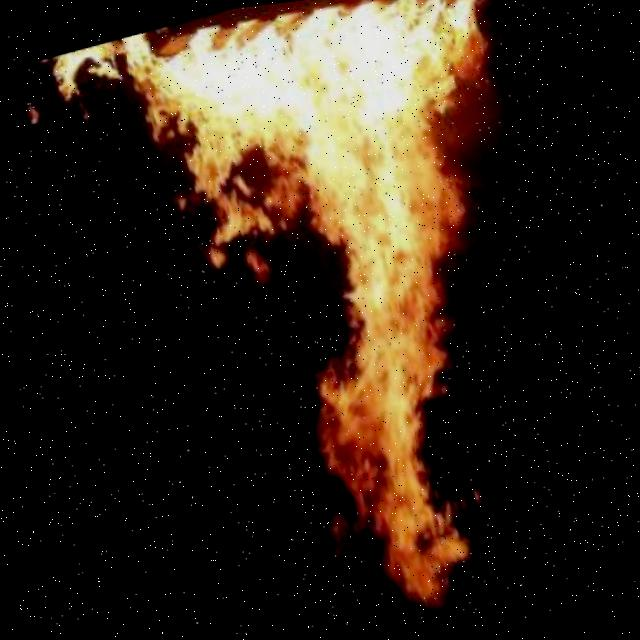fire: (135, 0, 524, 627)
